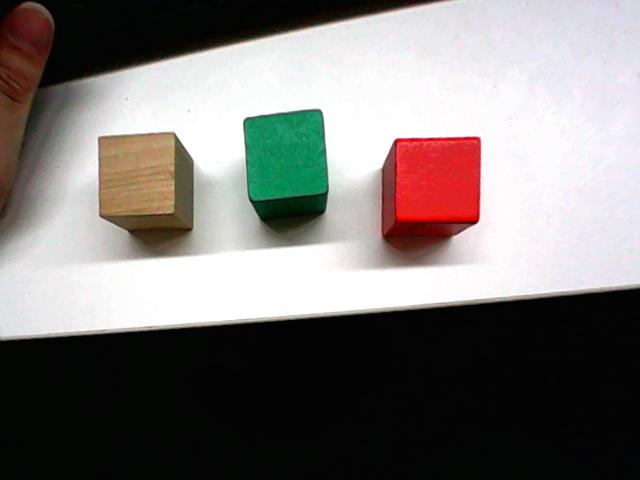green_box: (239, 105, 332, 223)
raw_box: (94, 130, 198, 240)
red_box: (378, 131, 485, 243)
